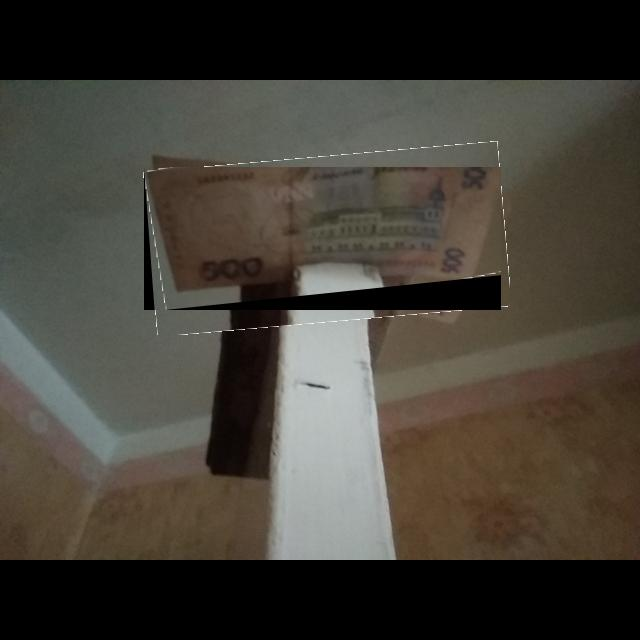500uah: (145, 167, 500, 292)
